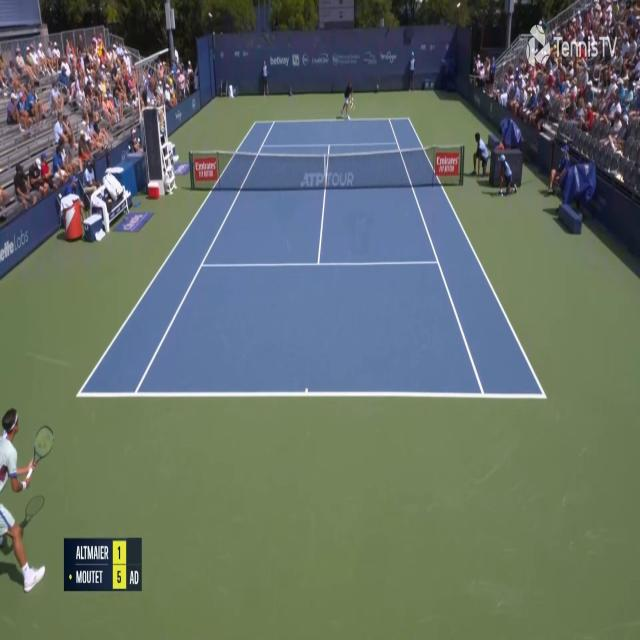tennis-player: (0, 399, 57, 601), (340, 78, 355, 122)
